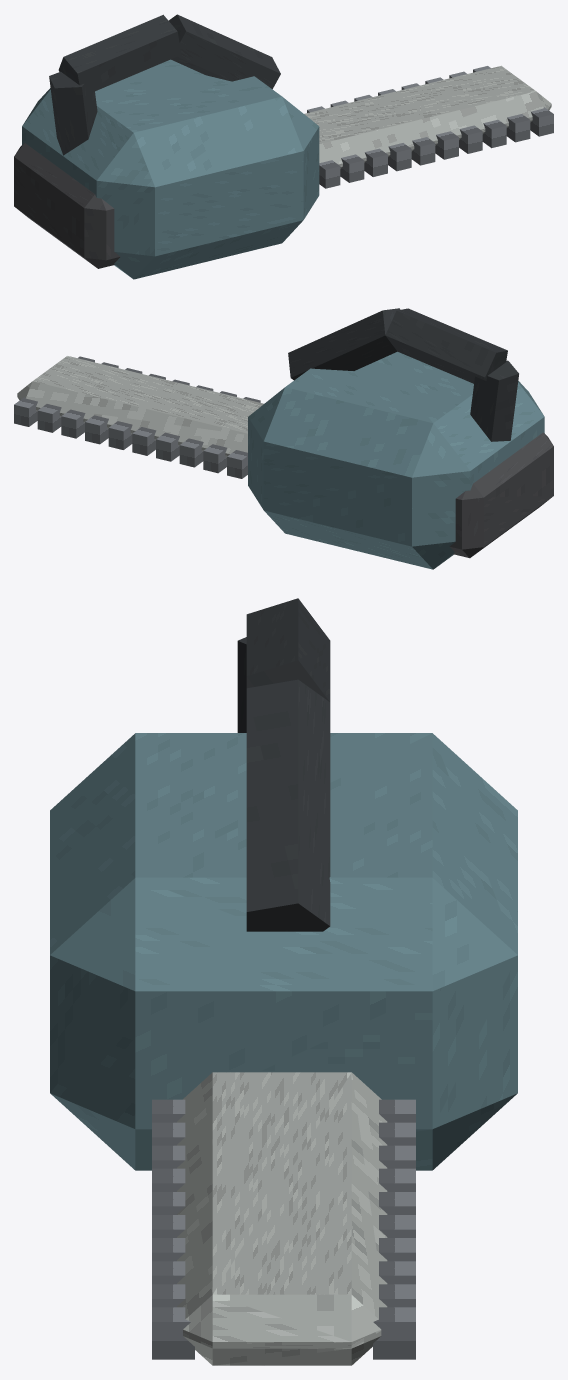
The model's file is elec_chainsaw_off.glb.
3 views of the same model, one above another, from view 1: azimuth 30°, elevation 25°; view 2: azimuth 150°, elevation 25°; view 3: azimuth 270°, elevation 25° (orthographic). The views are drawn at different scales.
Visible parts, largest first — view 1: block_chainsaw housing, block_saw bar, block_removable battery casing, block_chain link (×10), block_handle 1, block_handle 2, block_handle 0; view 2: block_chainsaw housing, block_saw bar, block_removable battery casing, block_chain link (×10), block_handle 1, block_handle 2, block_handle 0; view 3: block_chainsaw housing, block_saw bar, block_handle 2, block_handle 1, block_chain link (×2), block_handle 0.
Part boxes in pixels (box(x1,y1,x2,y2)): block_chainsaw housing: box(22, 59, 319, 279); block_saw bar: box(304, 65, 551, 168); block_removable battery casing: box(14, 143, 120, 268); block_chain link (×10): box(319, 107, 553, 188); block_handle 1: box(58, 14, 181, 94); block_handle 2: box(168, 14, 280, 89); block_handle 0: box(49, 71, 97, 155); block_chainsaw housing: box(248, 351, 544, 569); block_saw bar: box(17, 356, 263, 457); block_removable battery casing: box(449, 432, 553, 558); block_chain link (×10): box(14, 397, 247, 478); block_handle 1: box(385, 308, 507, 383); block_handle 2: box(288, 308, 400, 380); block_handle 0: box(470, 360, 518, 441); block_chainsaw housing: box(50, 733, 517, 1170); block_saw bar: box(177, 1072, 387, 1365); block_handle 2: box(246, 679, 330, 931); block_handle 1: box(246, 598, 330, 701); block_chain link (×2): box(152, 1307, 415, 1359); block_handle 0: box(237, 637, 246, 732).
Size of the model in its own units: 0.82 by 0.3517 by 0.3433.
1 material, 1 textured.
